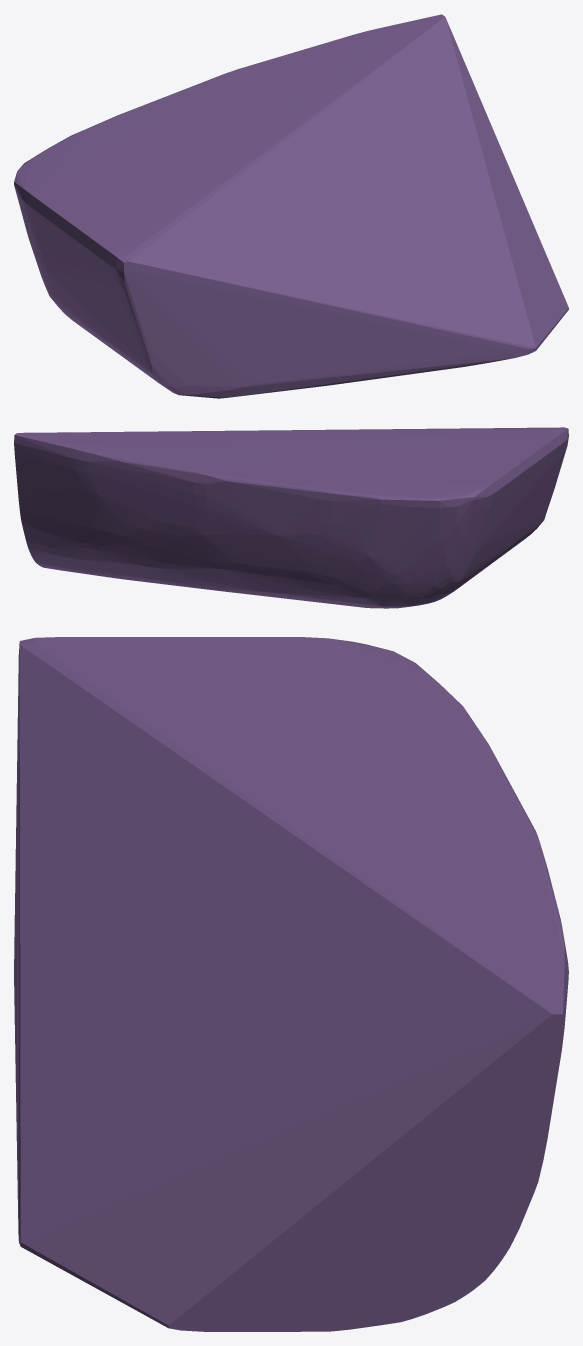
The picture shows the model from 3 angles, top to bottom: view 1: azimuth 30°, elevation 25°; view 2: azimuth 150°, elevation 25°; view 3: azimuth 270°, elevation 25°; orthographic projection. The views are drawn at different scales.
Bounding box in the file's own units: 0.0746 × 0.0296 × 0.0465.
